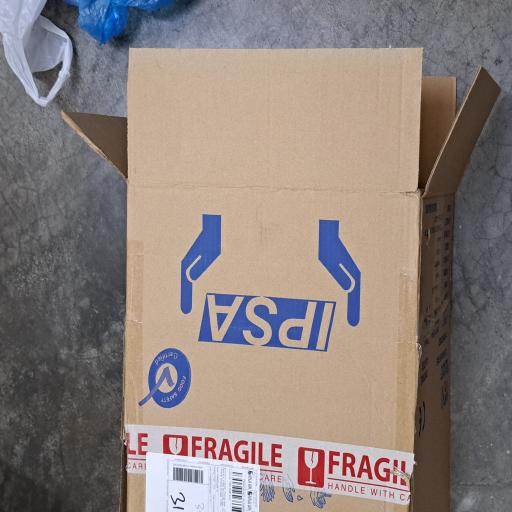cardboard: (6, 89, 358, 512)
